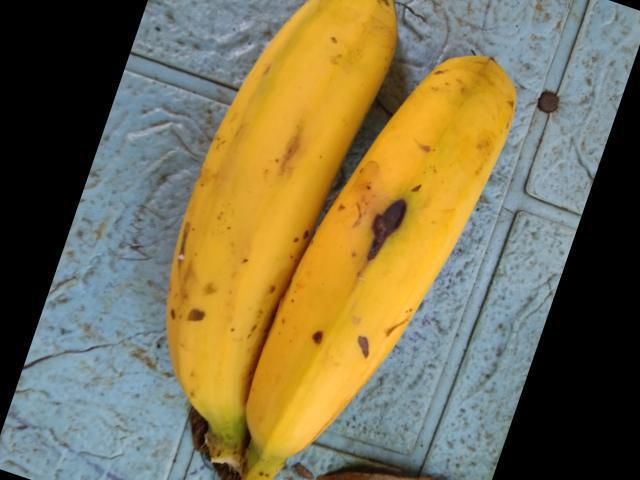freshripe: (159, 0, 361, 419)
ripe: (269, 53, 541, 479)
